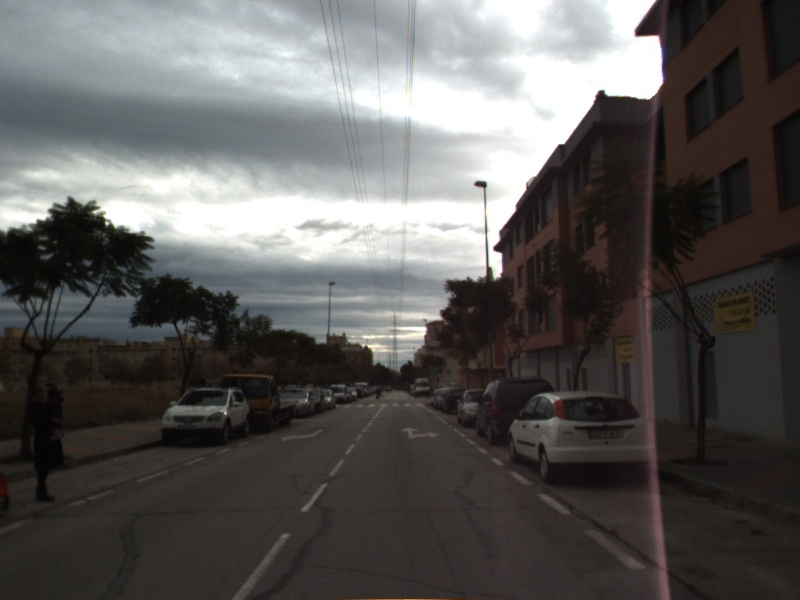STRAIGHT_RIGHT: (398, 425, 440, 441)
